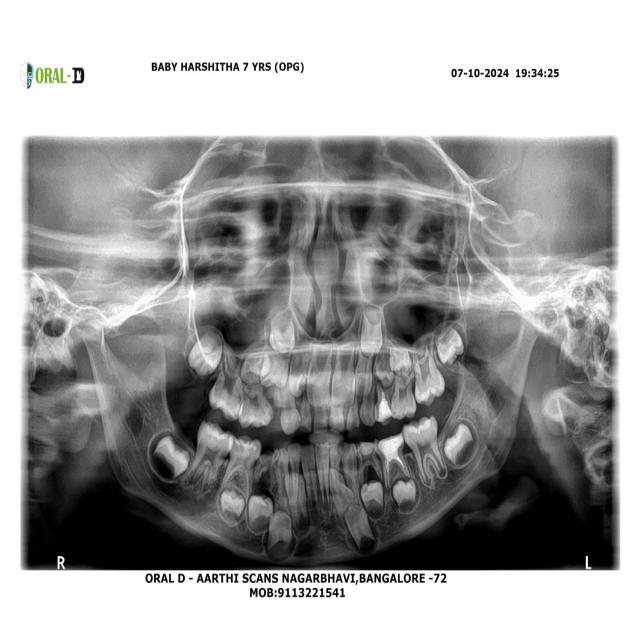Premolars: (356, 437, 384, 493)
